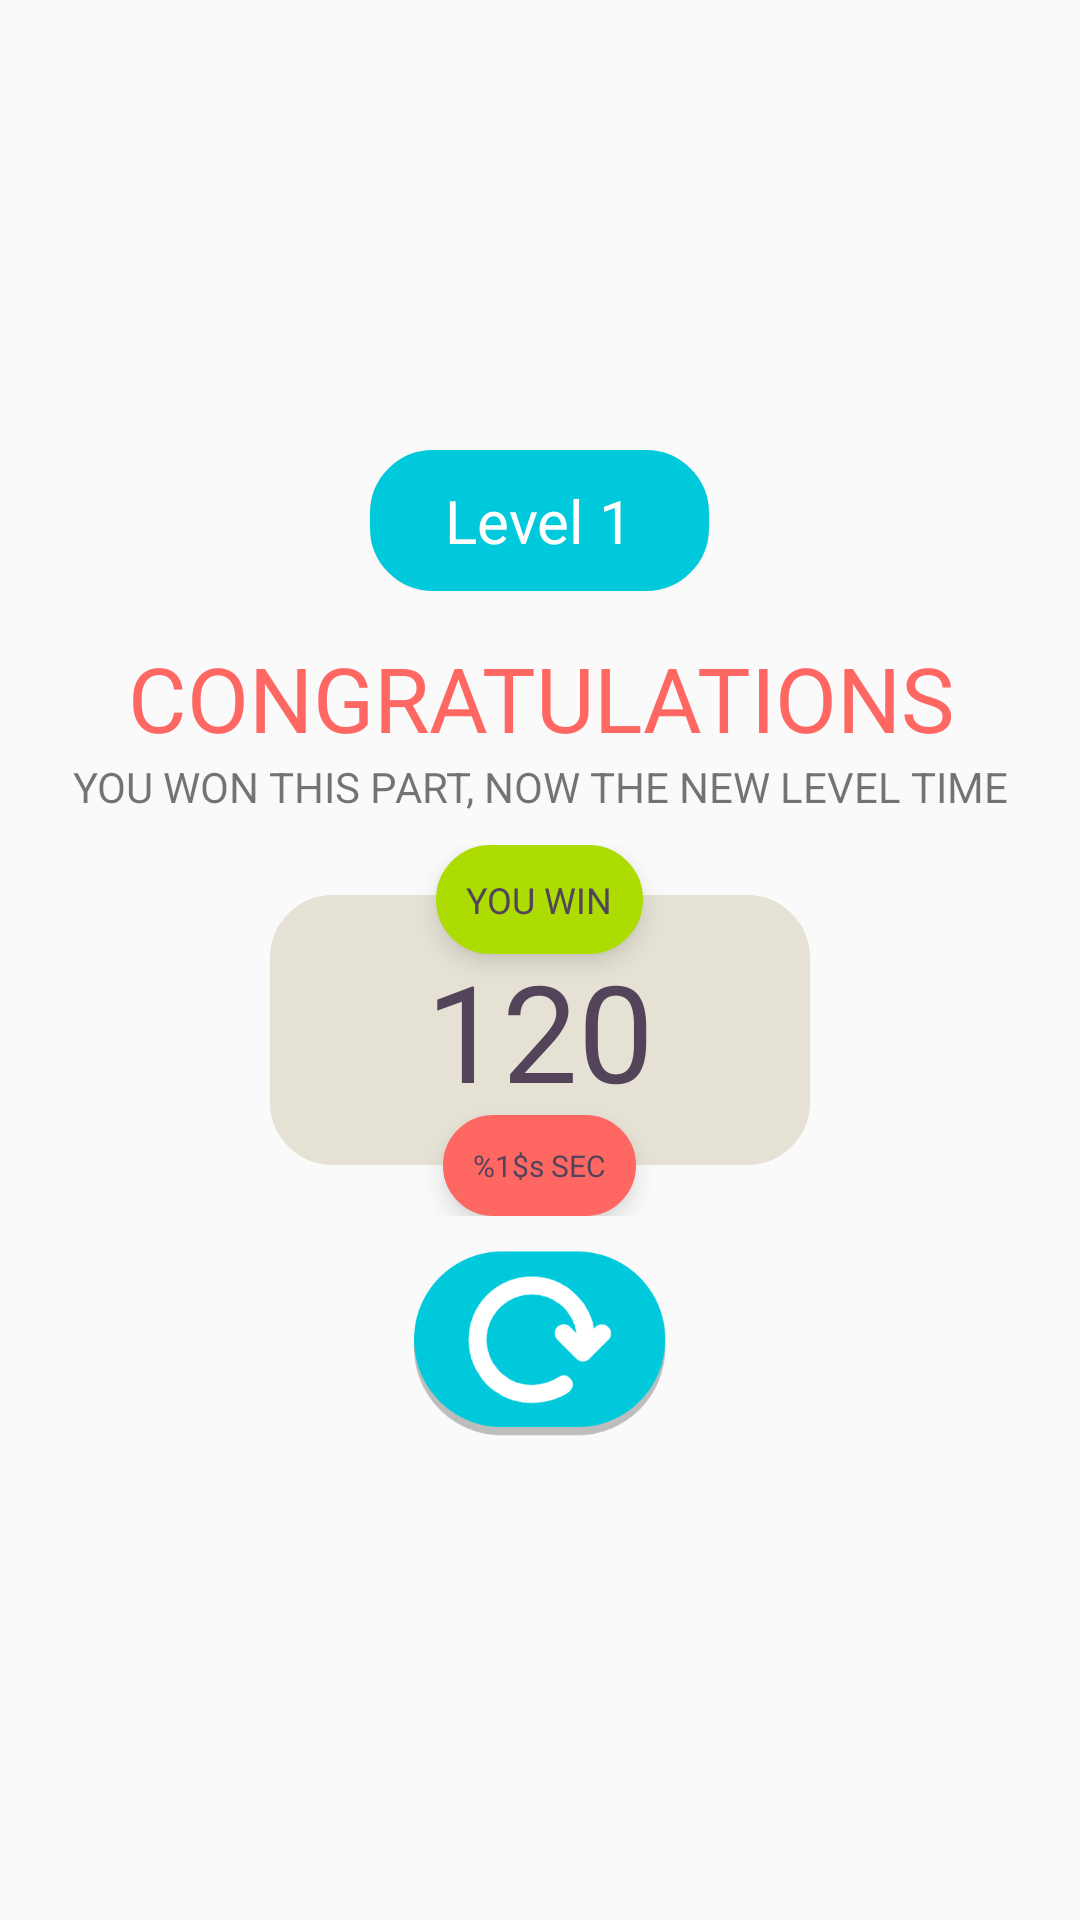

Icon click points for this 1080px×1920px phone screenshot, format [x,y]:
repeat: [540,1343]
